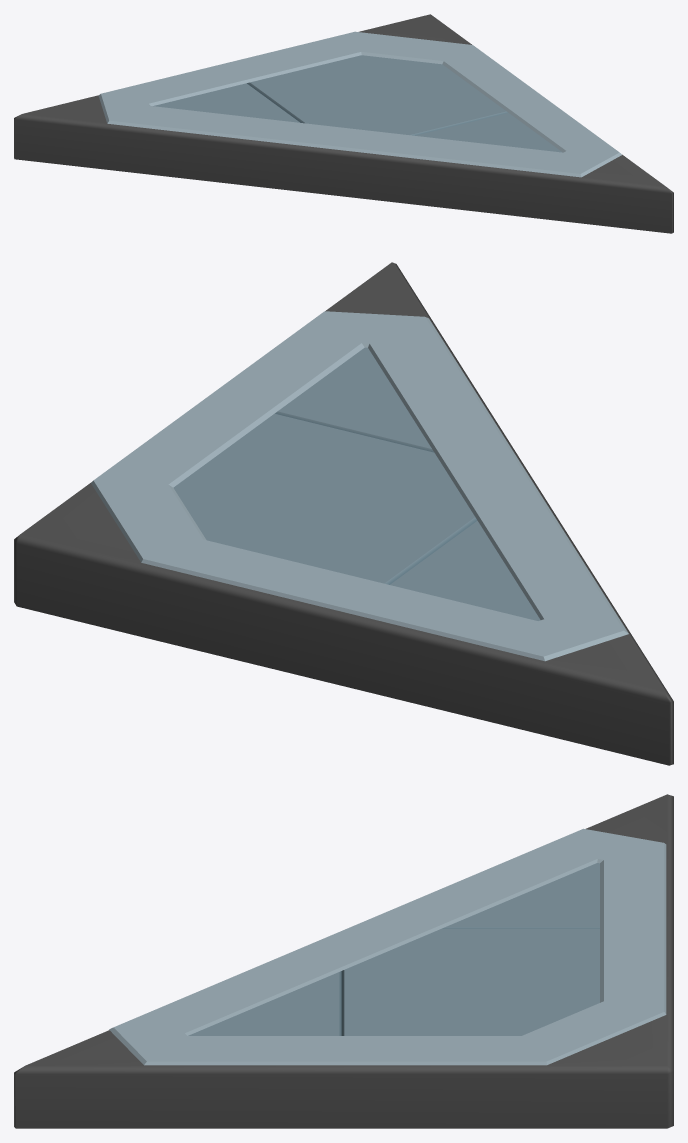
Rendered from platform_006.fbx.
The picture shows the model from 3 angles, top to bottom: view 1: azimuth 30°, elevation 25°; view 2: azimuth 150°, elevation 25°; view 3: azimuth 270°, elevation 25°; orthographic projection. The views are drawn at different scales.
Visible parts, largest first — view 1: platform_006; view 2: platform_006; view 3: platform_006.
Part boxes in pixels (x1,y1,x2,y2): platform_006: (14, 14, 673, 233); platform_006: (14, 262, 673, 765); platform_006: (14, 794, 673, 1128).
Size of the model in its own units: 993 by 993 by 105.
